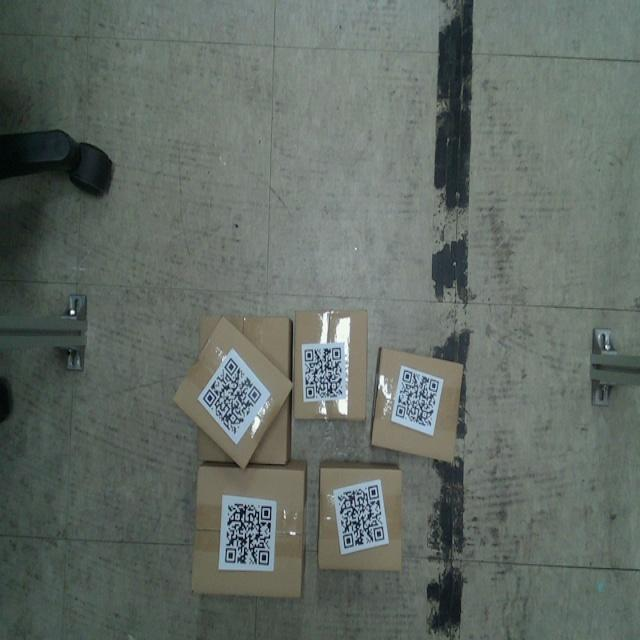box: (169, 314, 298, 472), (191, 464, 308, 601), (370, 344, 466, 466), (316, 460, 404, 572), (294, 309, 368, 423)
